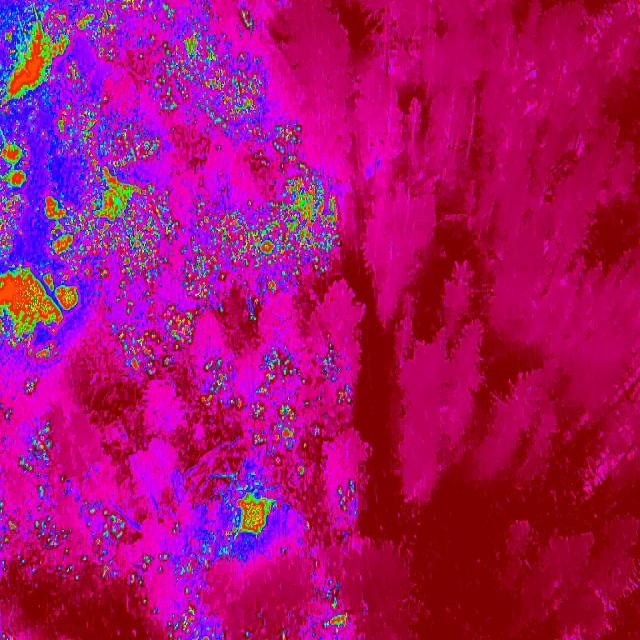fire: (186, 192, 350, 300), (154, 25, 266, 136), (78, 166, 178, 286), (250, 351, 326, 479), (0, 262, 86, 366), (0, 0, 79, 108), (49, 112, 164, 186), (101, 297, 206, 375), (78, 0, 173, 62), (268, 117, 319, 195), (0, 140, 33, 255), (86, 500, 132, 581), (222, 487, 284, 542), (38, 192, 86, 258), (0, 502, 28, 582), (205, 357, 248, 409), (16, 421, 53, 481), (326, 346, 358, 406), (172, 550, 214, 588), (177, 602, 213, 640), (319, 598, 352, 638), (35, 521, 73, 553), (334, 477, 358, 518), (233, 2, 261, 36), (130, 552, 156, 588), (19, 377, 42, 398)
